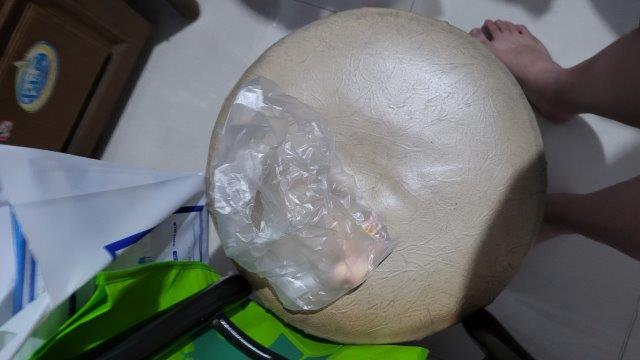plastik: (1, 142, 209, 355), (218, 76, 396, 303)
